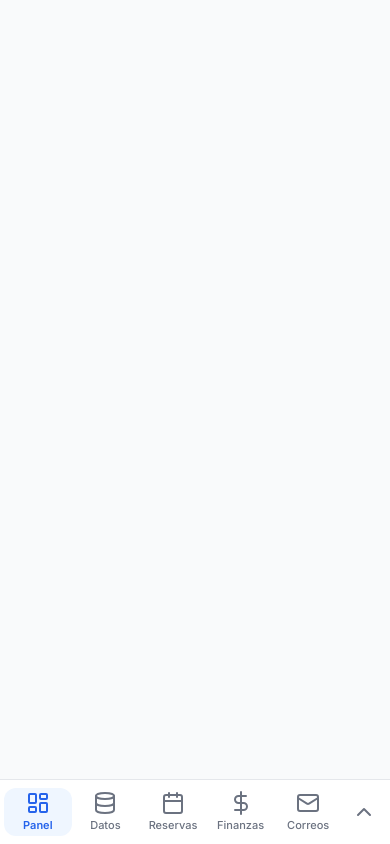
Test: BottomNav › expands the sheet when the chevron is clicked
Click the button named "Ver más opciones": (364, 812) [342,788,386,836]
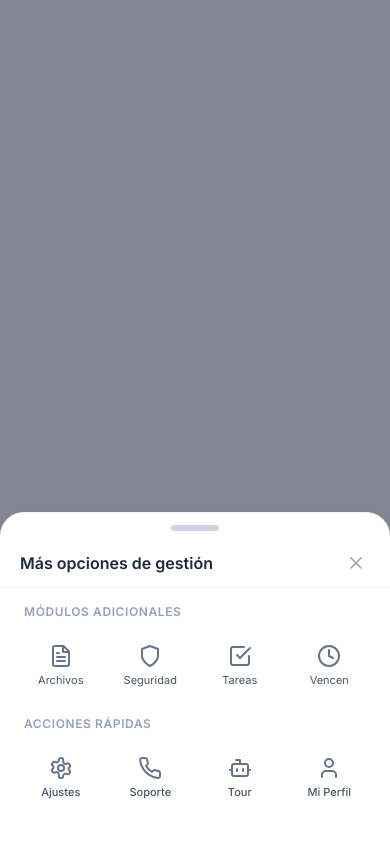
Check: the text "Archivos" is shown, box [38,674,84,688]
Check: the text "Seguridad" is shown, box [124,674,177,688]
Check: the text "Tareas" is shown, box [222,674,257,688]
